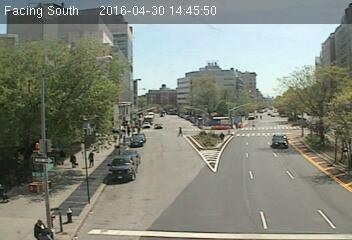neg: (14, 140, 51, 190), (14, 56, 50, 104), (274, 84, 301, 121), (186, 173, 212, 208), (80, 74, 106, 108), (270, 130, 293, 161), (110, 157, 132, 186), (199, 53, 218, 78), (134, 64, 152, 88), (273, 51, 289, 73), (295, 192, 310, 212), (61, 205, 75, 224), (251, 171, 265, 189)
pos: (30, 213, 48, 237), (82, 149, 98, 171), (171, 122, 186, 142), (217, 127, 229, 143), (69, 151, 80, 166)
